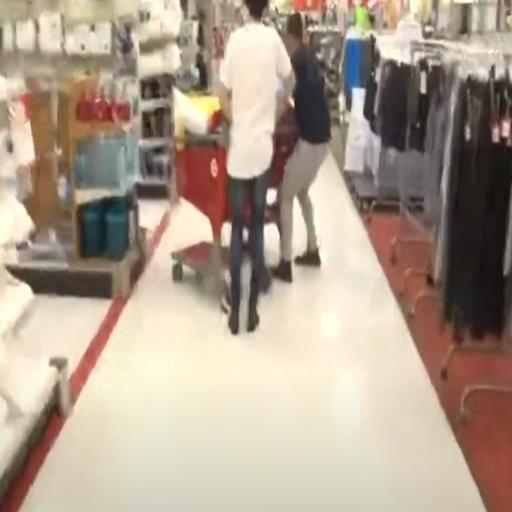shopping_cart: (170, 132, 230, 298)
